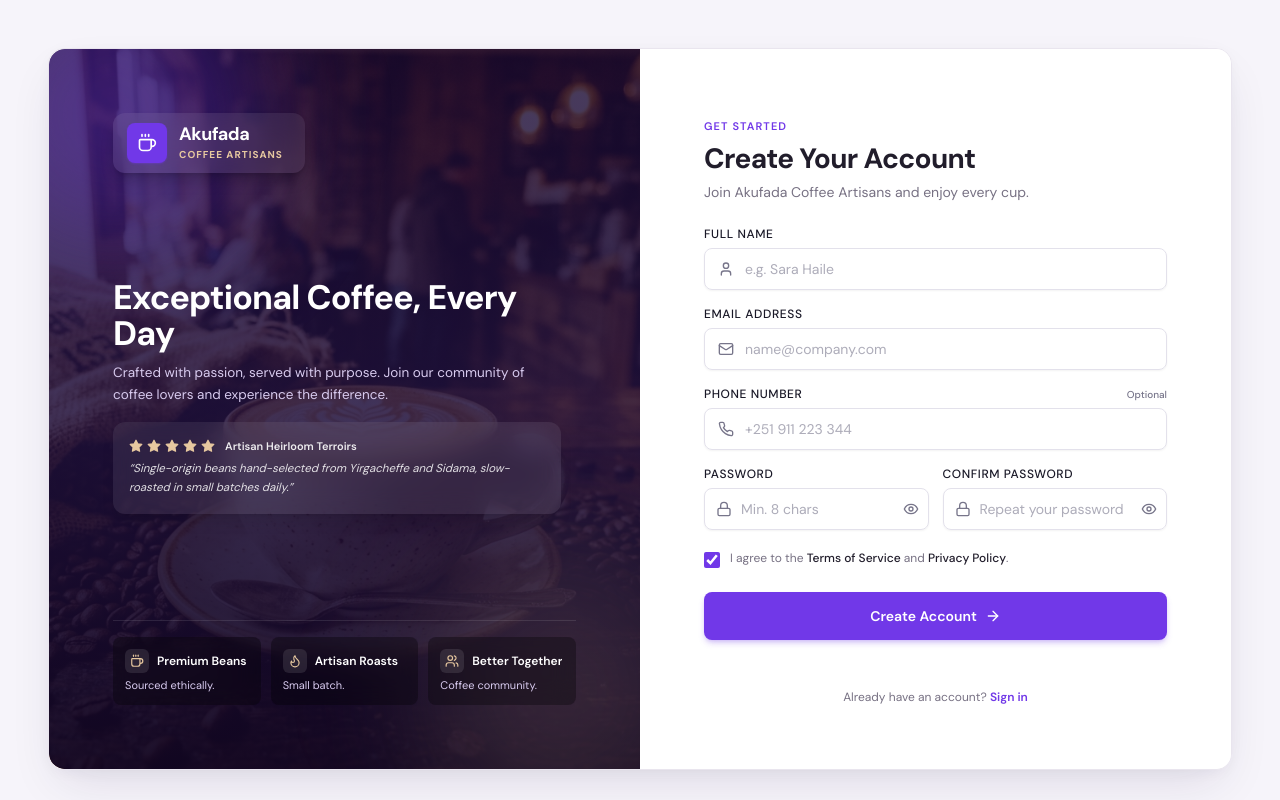
Scenario: <RegisterPage /> › validates required fields before submitting
The width and height of the screenshot is (1280, 800).
Click the button "Create Account" at point(936, 616), box [704, 592, 1167, 640]
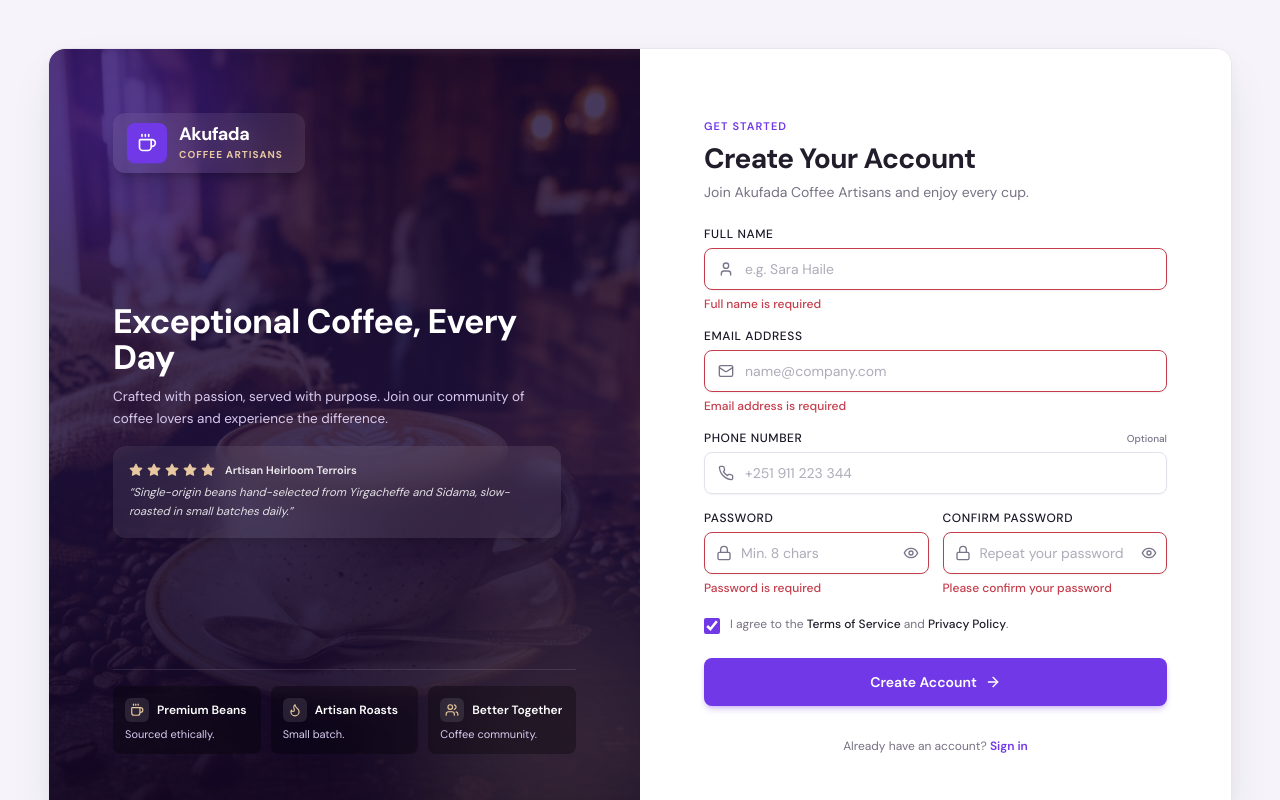
Expected: the text "Full name is required" is shown, [704, 296, 821, 312]
Expected: the text "Email address is required" is shown, [704, 398, 846, 414]
